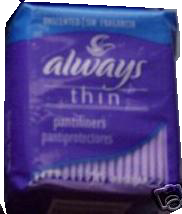grozi_82: (0, 0, 182, 214)
